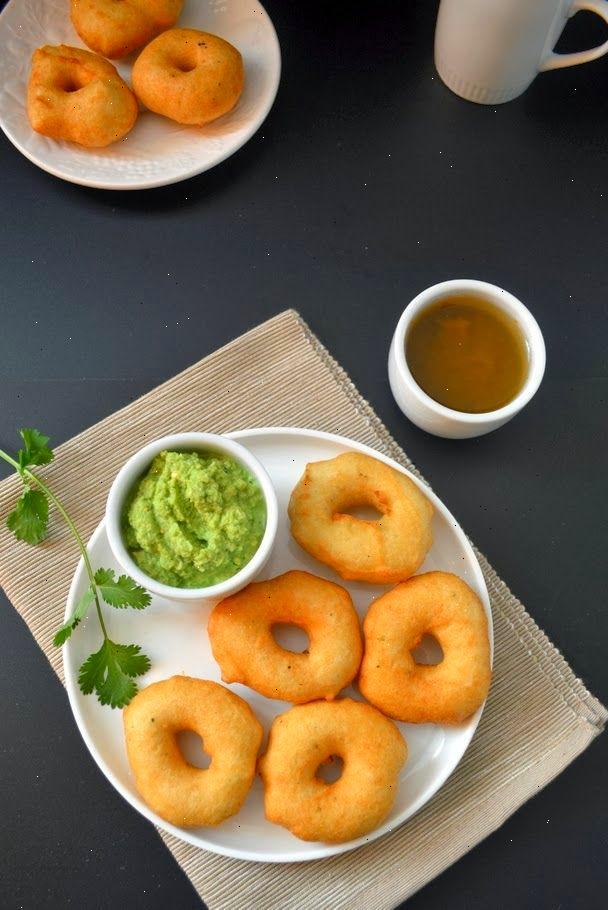coconut chutney: (129, 452, 266, 580)
medu vada: (130, 589, 494, 845), (27, 0, 245, 159), (287, 457, 442, 591)
sambhar: (403, 315, 525, 411)
